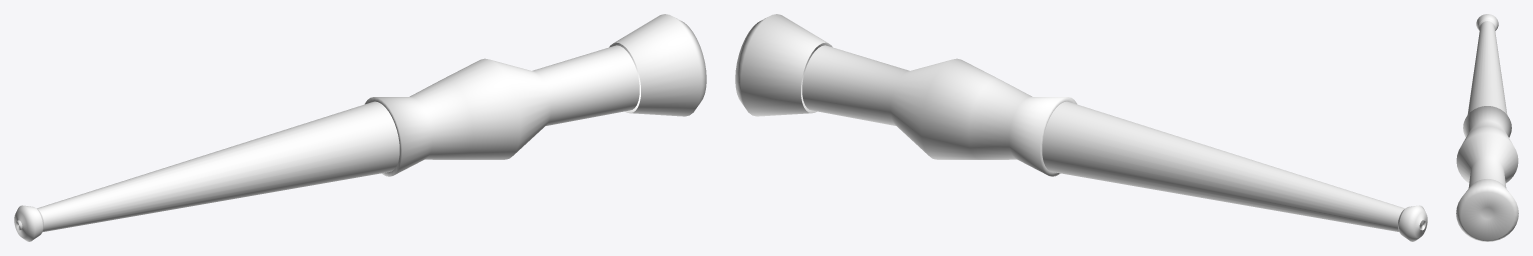
The model's file is wand12.glb.
3 renders of one model, left to right at view 1: azimuth 30°, elevation 25°; view 2: azimuth 150°, elevation 25°; view 3: azimuth 270°, elevation 25°, orthographic. The views are drawn at different scales.
Visible parts, largest first — view 1: Cylinder.001, Cylinder.002, Cylinder, Cylinder.003; view 2: Cylinder.001, Cylinder.002, Cylinder, Cylinder.003; view 3: Cylinder.001, Cylinder, Cylinder.002, Cylinder.003.
Part boxes in pixels (box(x1,y1,x2,y2)): Cylinder.001: box(37, 45, 639, 231); Cylinder.002: box(37, 101, 399, 232); Cylinder: box(609, 14, 706, 116); Cylinder.003: box(14, 205, 42, 241); Cylinder.001: box(802, 45, 1404, 231); Cylinder.002: box(1042, 101, 1404, 232); Cylinder: box(735, 14, 832, 116); Cylinder.003: box(1399, 205, 1427, 241); Cylinder.001: box(1456, 18, 1518, 187); Cylinder: box(1456, 179, 1518, 241); Cylinder.002: box(1467, 21, 1507, 114); Cylinder.003: box(1476, 14, 1498, 30).
Bounding box in the file's own units: 4.73 × 0.6467 × 0.6467.
Materials: 2 (2 with a texture image).
